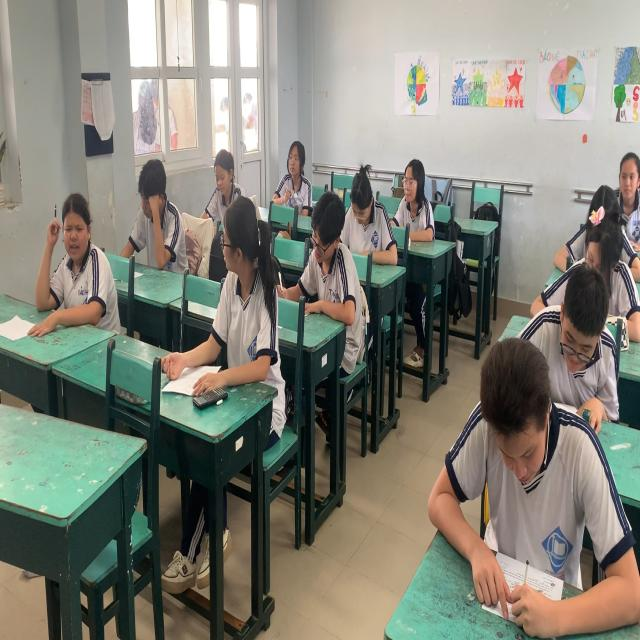cheating: (201, 195, 283, 383), (36, 182, 114, 326)
not_cheating: (438, 340, 620, 640), (542, 258, 616, 422), (299, 188, 364, 343), (577, 208, 640, 346), (120, 156, 187, 274), (385, 146, 442, 264), (346, 152, 398, 271), (614, 142, 640, 254), (275, 136, 309, 208), (207, 142, 242, 208)
